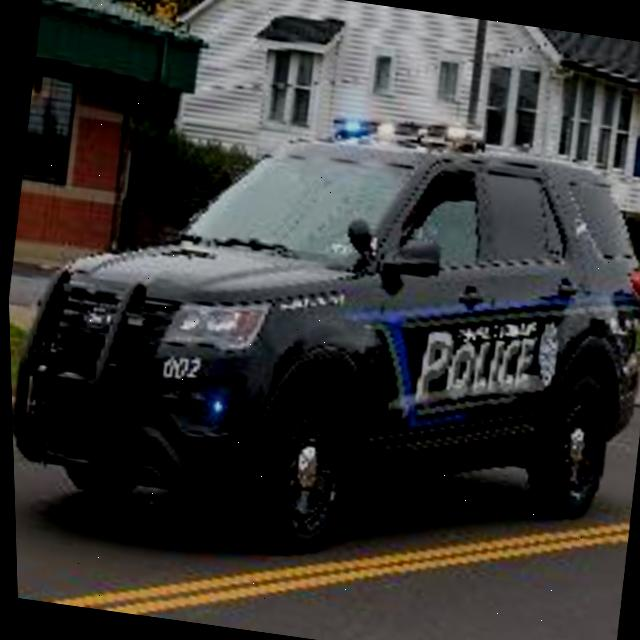emergency: (2, 67, 640, 607)
